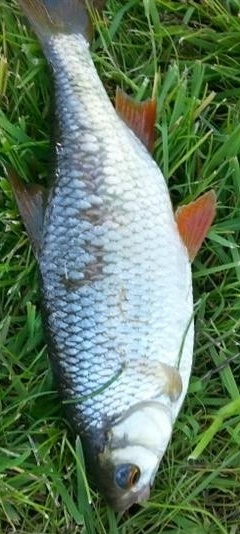Rutilus rutilus: (20, 1, 220, 514)
